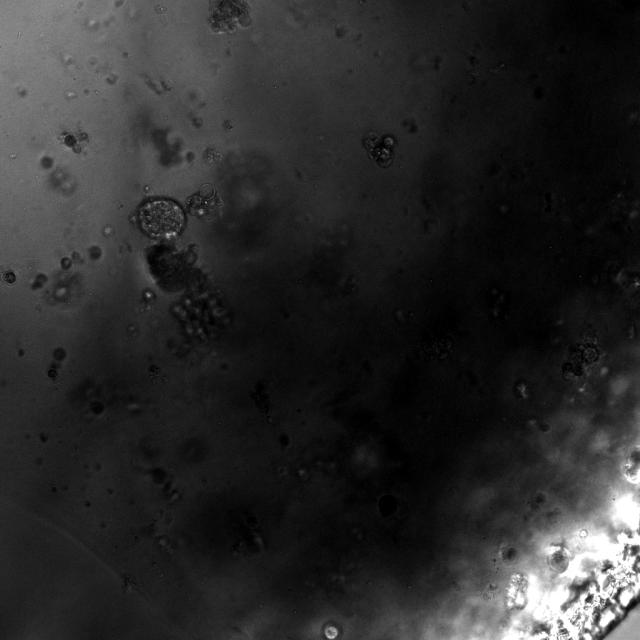organoid: (136, 200, 232, 360), (562, 336, 601, 379), (208, 0, 252, 33), (186, 183, 221, 221), (151, 128, 182, 167), (362, 131, 395, 167), (61, 131, 88, 153), (202, 147, 222, 163), (0, 269, 17, 285), (31, 273, 47, 289), (89, 245, 102, 259), (47, 366, 59, 381), (54, 347, 66, 360), (61, 255, 72, 268), (222, 119, 233, 132), (185, 150, 194, 165), (41, 156, 52, 168)
